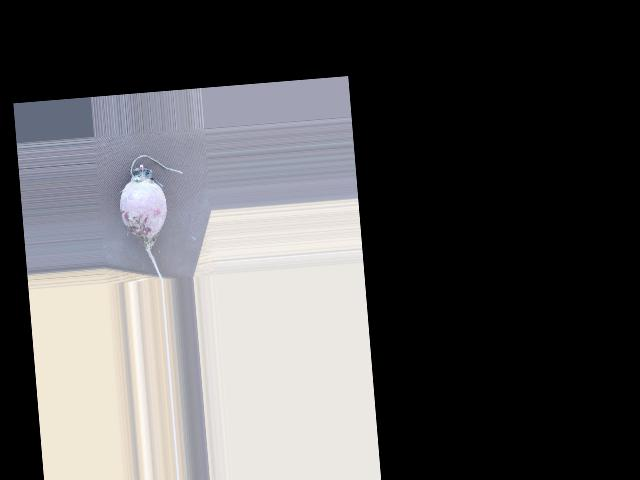beet: (115, 152, 191, 283)
